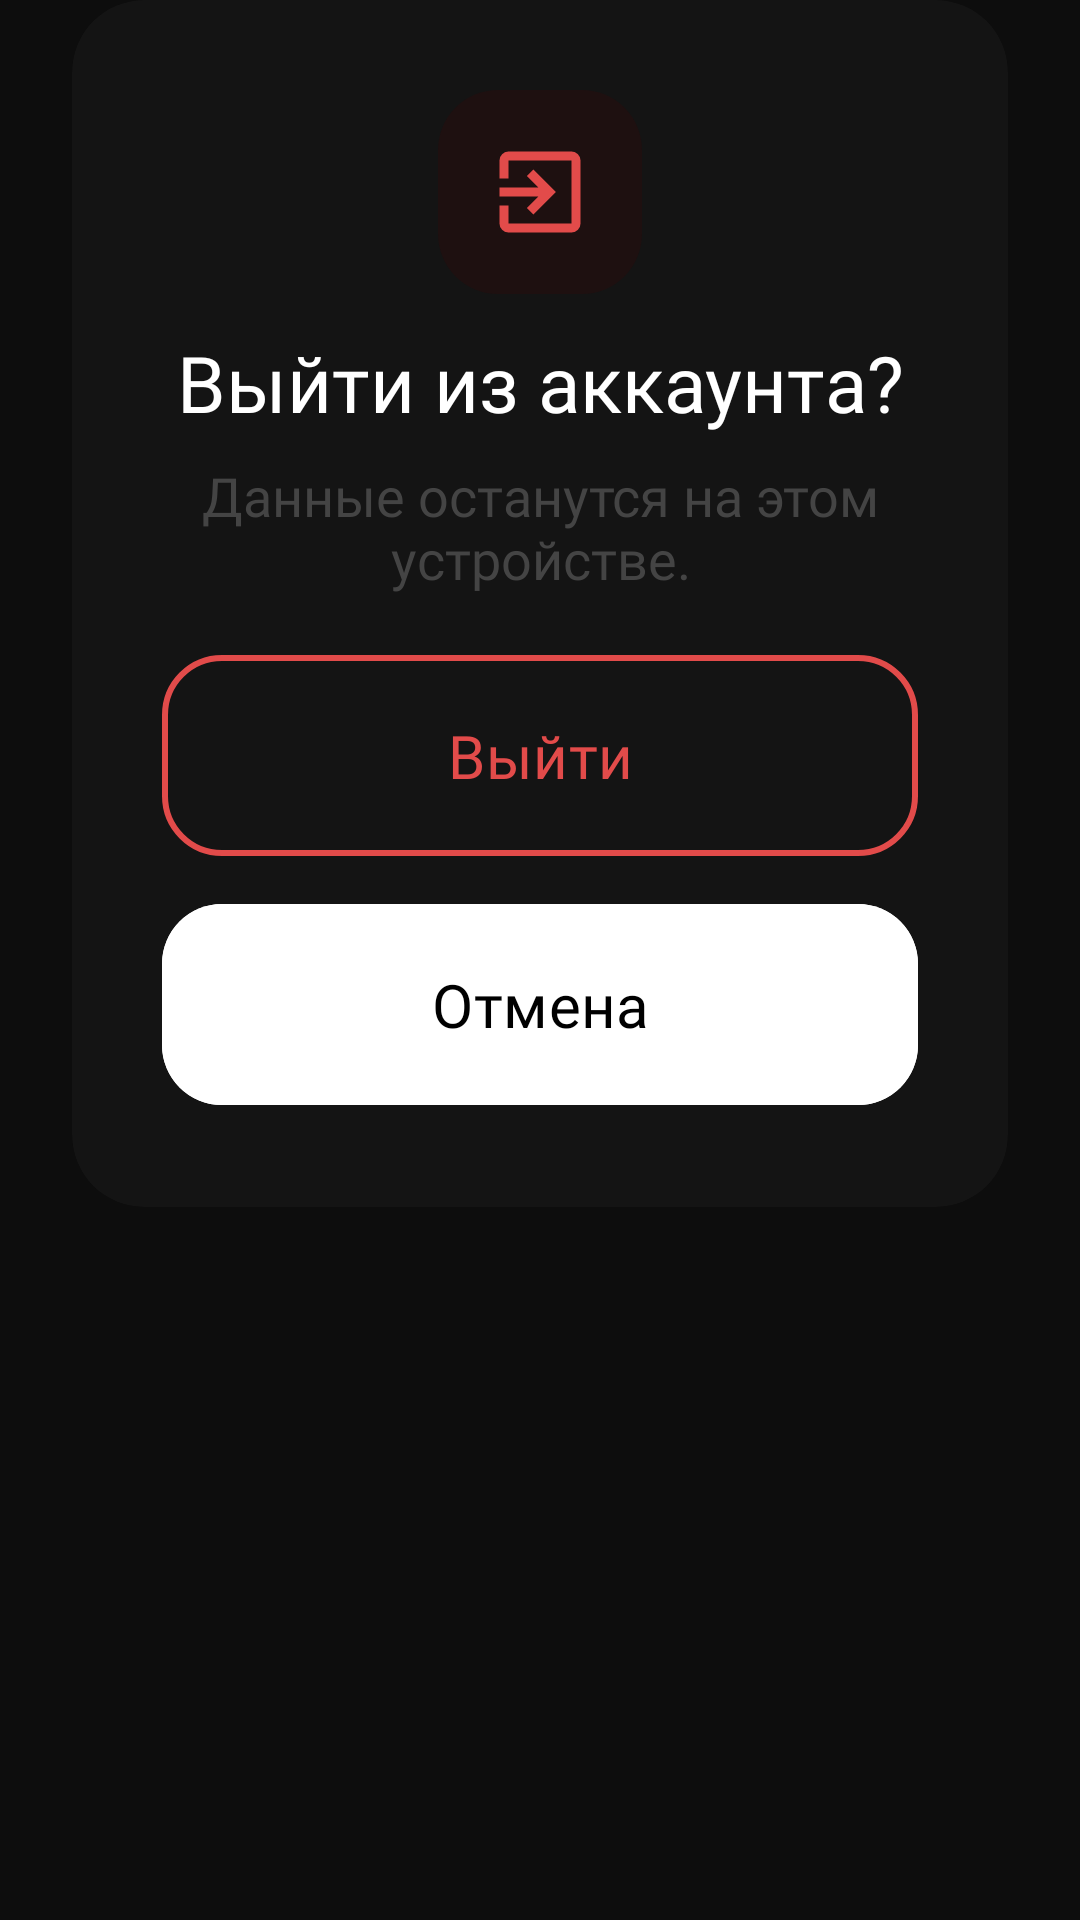

Icon click points for this 1080*1920 phone screenshot, format [x,y]:
leave: [540,192]
